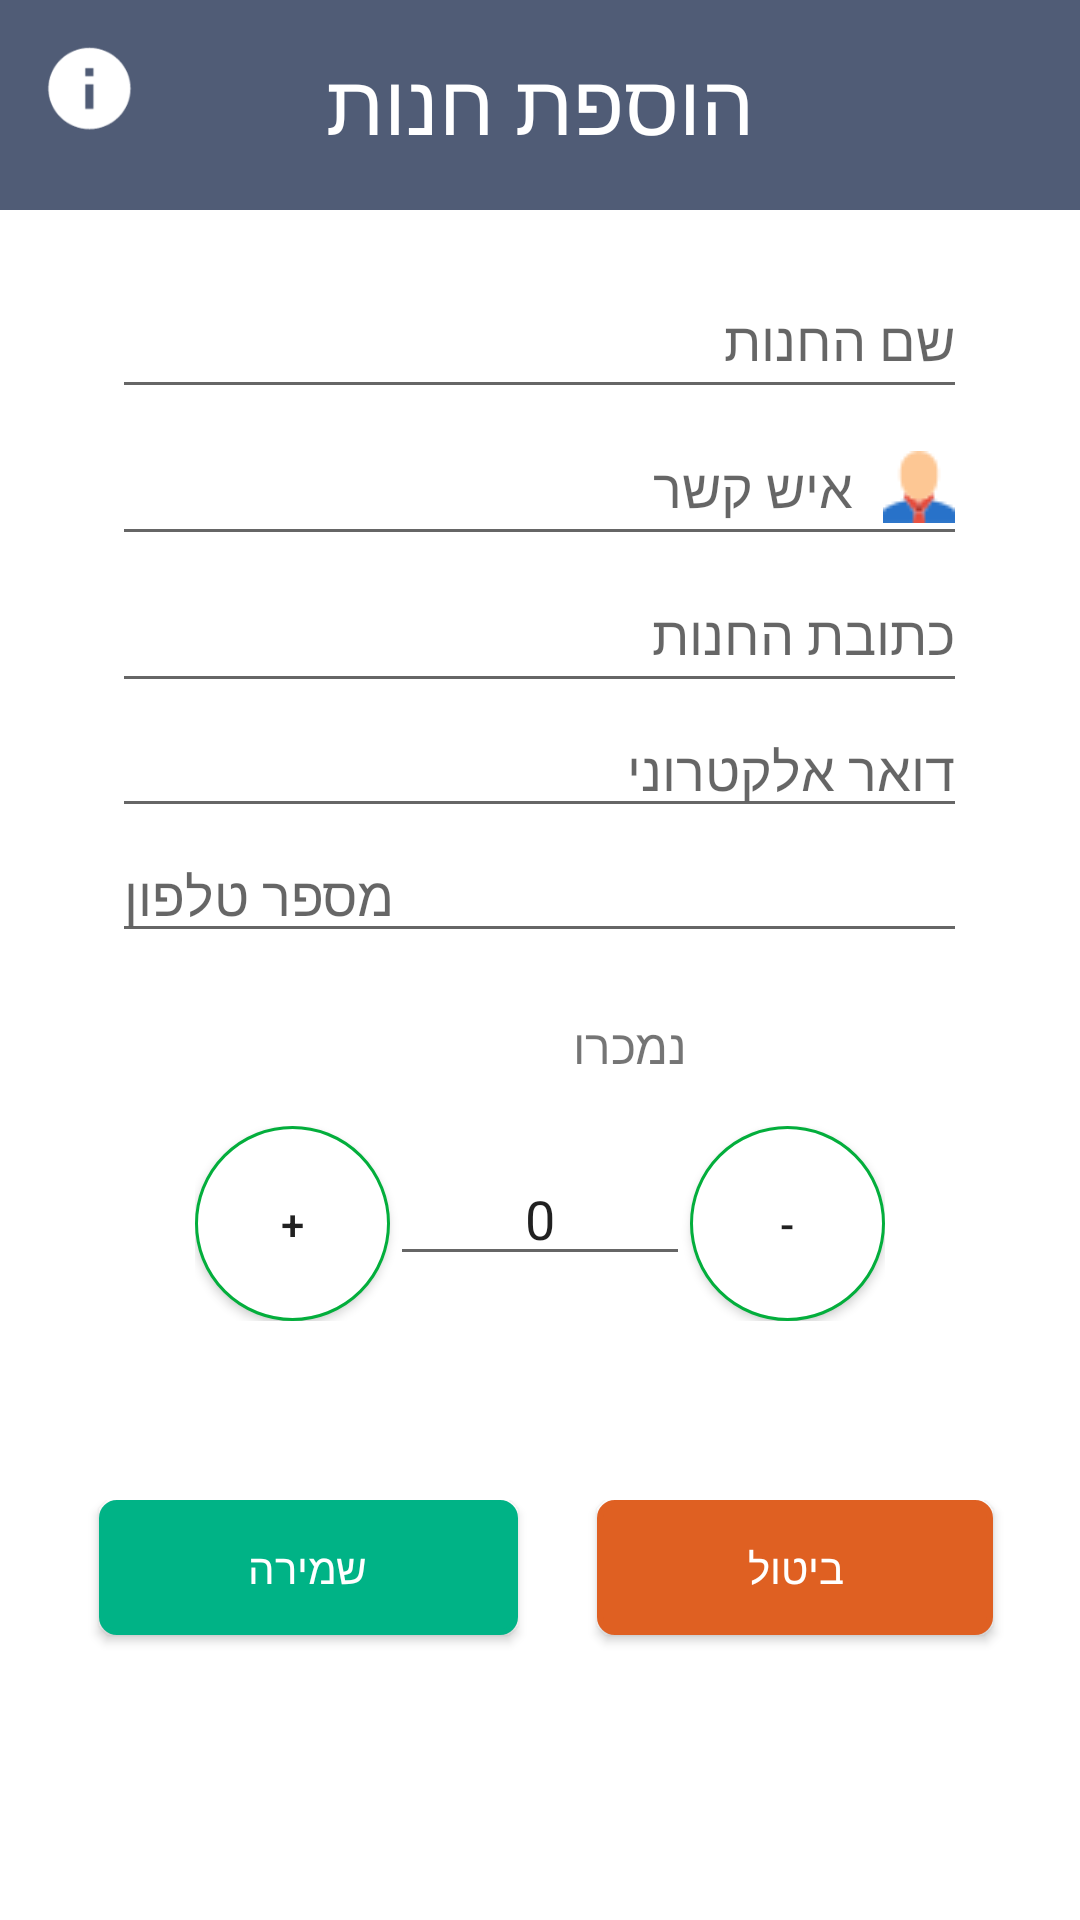

Icon bounding boxes for this 1080×1920 phone screenshot, format bbox=[x1, y1, x2, y2]:
infor: bbox=[48, 47, 131, 130]
